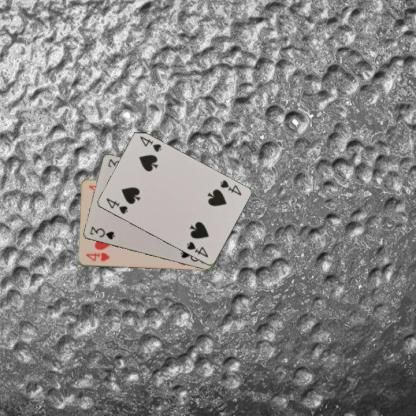3s: (87, 224, 116, 241)
4h: (84, 250, 110, 262)
4s: (103, 196, 129, 216), (217, 177, 243, 197)
